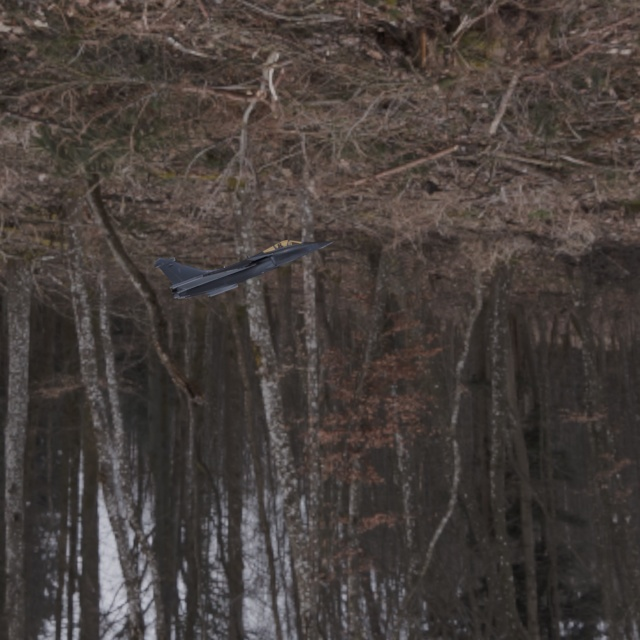dassault_rafale: (132, 194, 348, 310)
